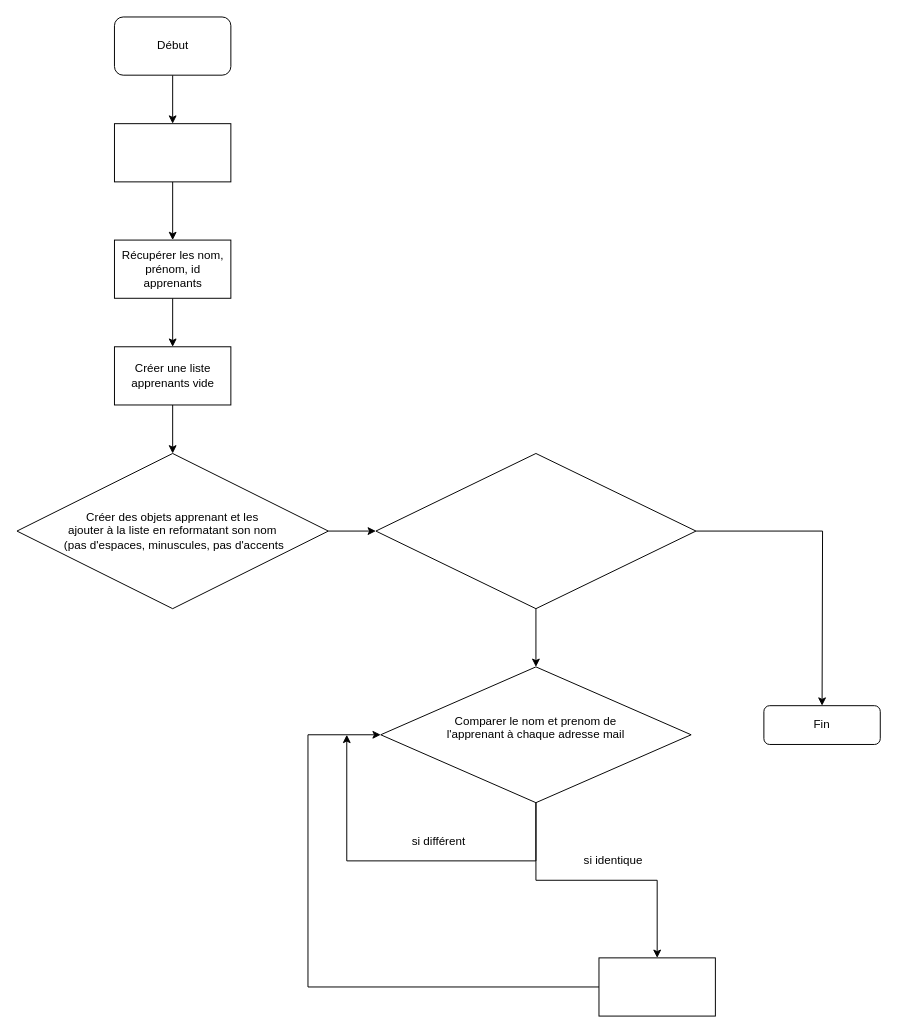
Image size: 897x1033. Some labels were removed from this diagram. Here are the shapes that lost their labels. From the top down, the box of each, then its label:
(113, 123, 231, 182): Créer un objet pour la connection MySQL
(375, 453, 696, 609): Pour chaque apprenant
(598, 957, 715, 1016): Ajouter à la BDD
